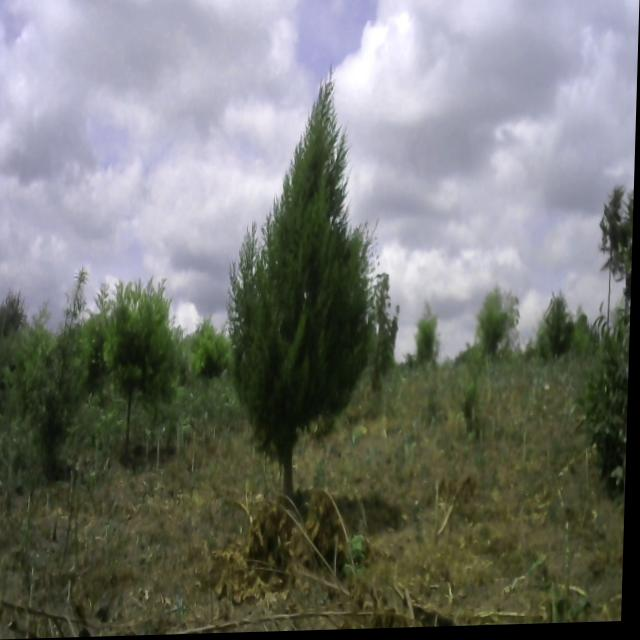cedrus: (231, 86, 376, 456)
